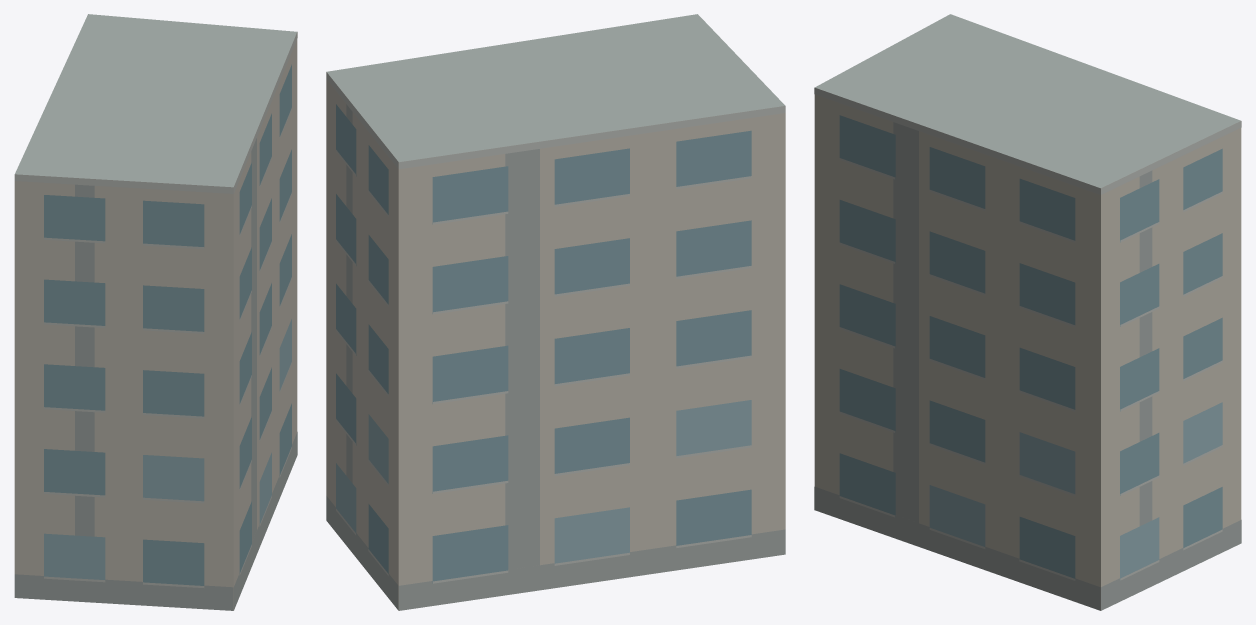
Rendered from residential-f473d081-57ec-4836-bcd8-f08d88985833.glb.
3 views of the same model, side by side, from view 1: azimuth 30°, elevation 25°; view 2: azimuth 150°, elevation 25°; view 3: azimuth 270°, elevation 25° (orthographic). The views are drawn at different scales.
Visible parts, largest first — view 1: residential-f473d081-57ec-4836-bcd8-f08d88985833.tmp; view 2: residential-f473d081-57ec-4836-bcd8-f08d88985833.tmp; view 3: residential-f473d081-57ec-4836-bcd8-f08d88985833.tmp.
Boxes of the visible parts, x1,y1,x2,y2 form: residential-f473d081-57ec-4836-bcd8-f08d88985833.tmp: [14, 14, 297, 610]; residential-f473d081-57ec-4836-bcd8-f08d88985833.tmp: [326, 14, 785, 610]; residential-f473d081-57ec-4836-bcd8-f08d88985833.tmp: [814, 14, 1241, 610].
Size of the model in its own units: 13.5 by 15.25 by 13.97.
